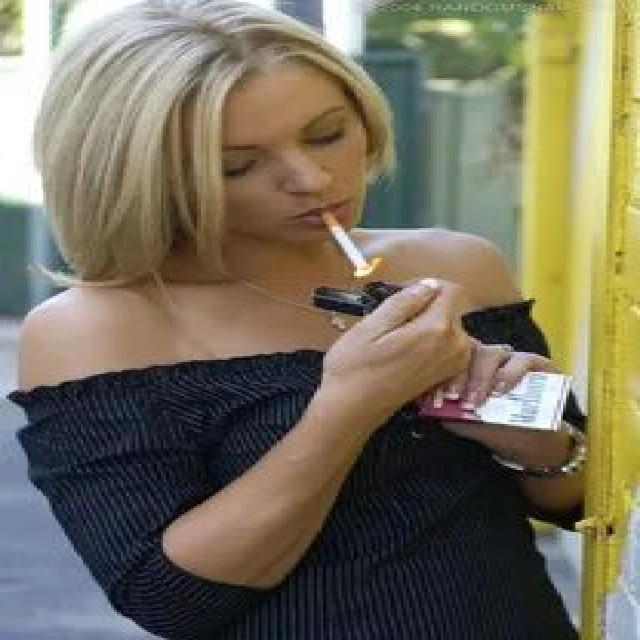cigarette: (314, 204, 378, 278)
